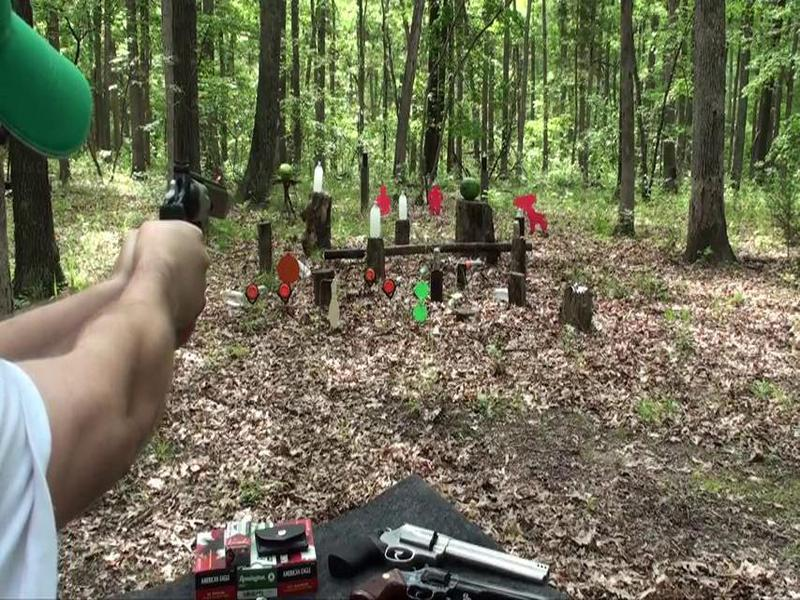Revolver: (149, 155, 240, 302)
